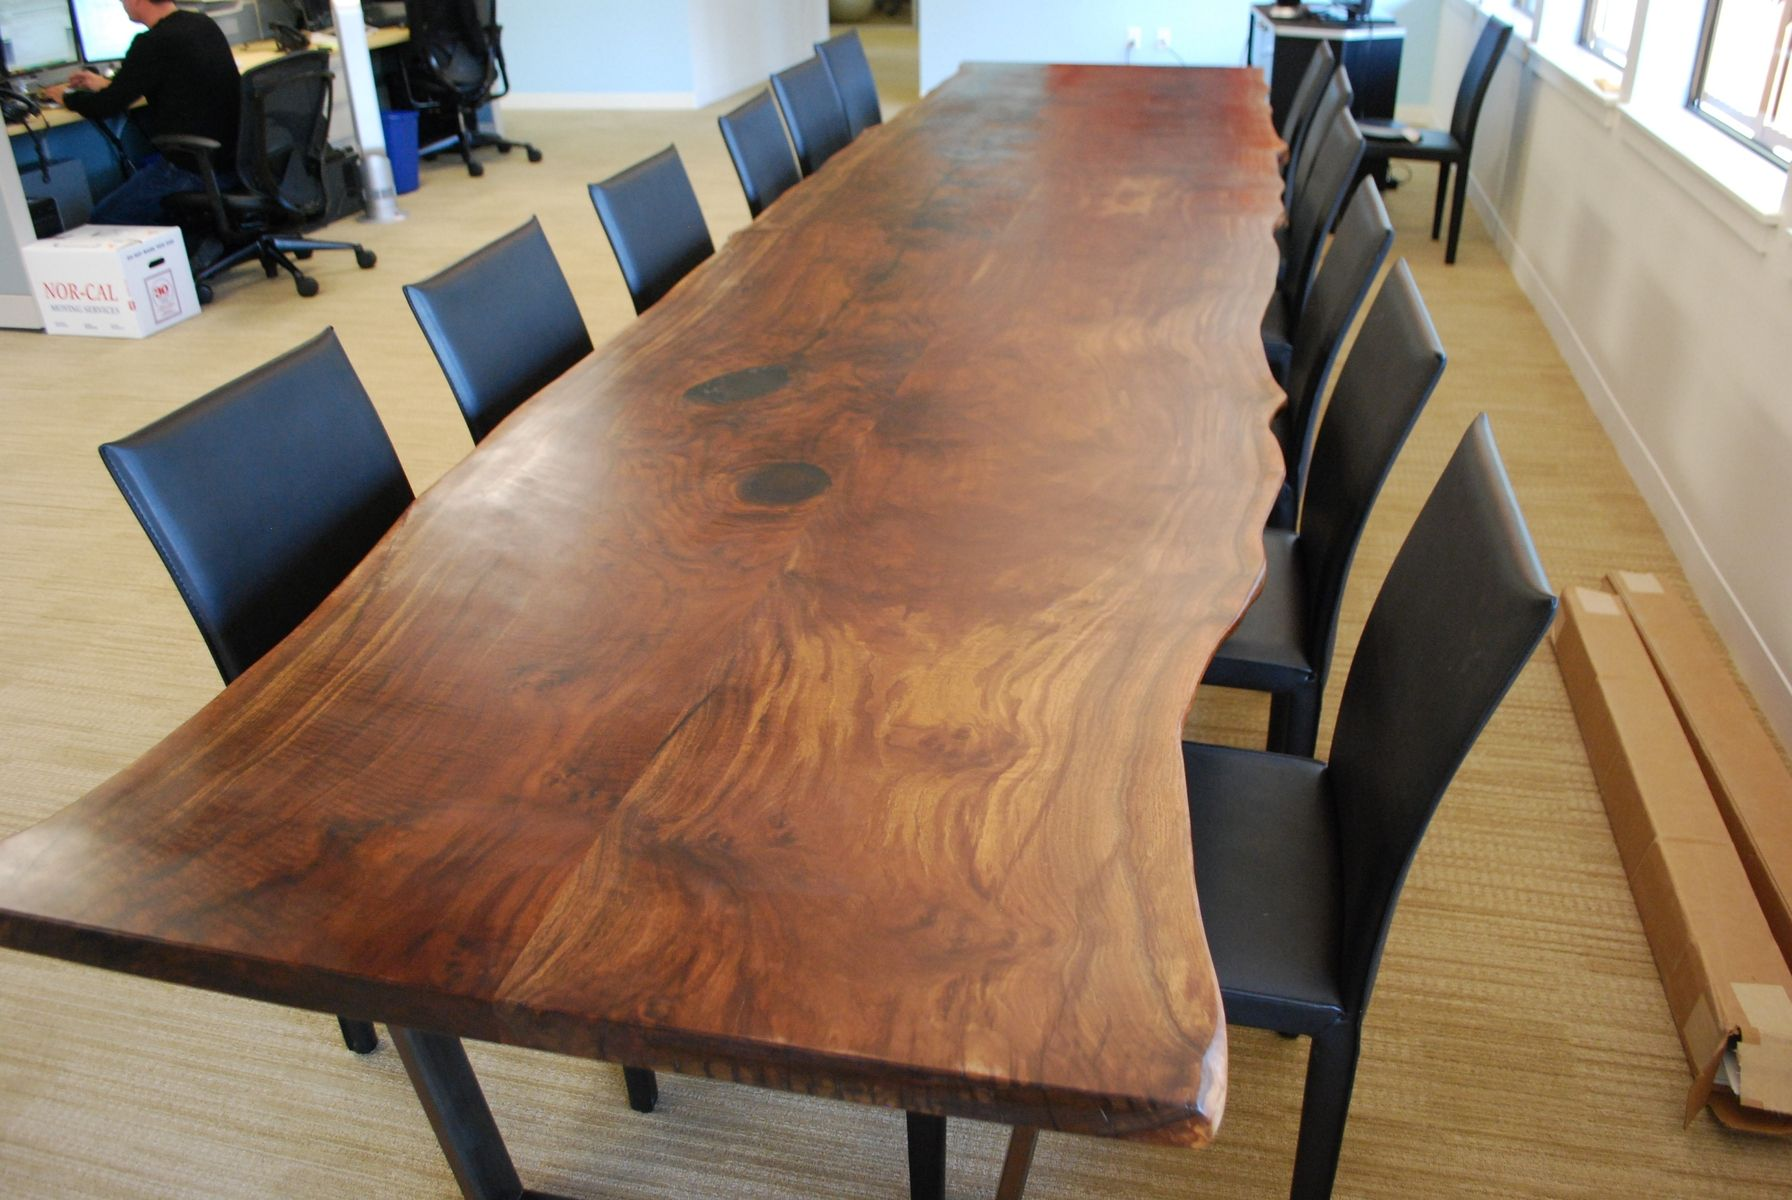conference_table: (1, 64, 1289, 1196)
